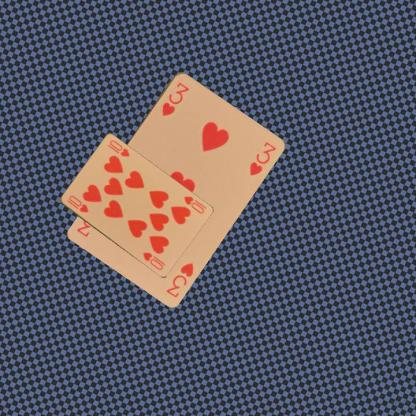10h: (64, 193, 90, 214), (181, 193, 205, 215)
3h: (163, 259, 195, 299), (159, 79, 190, 117)
